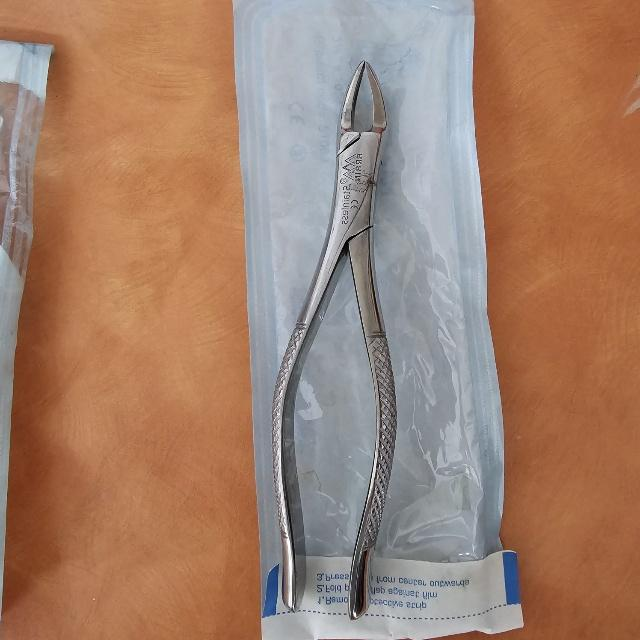forceps: (273, 62, 397, 622)
